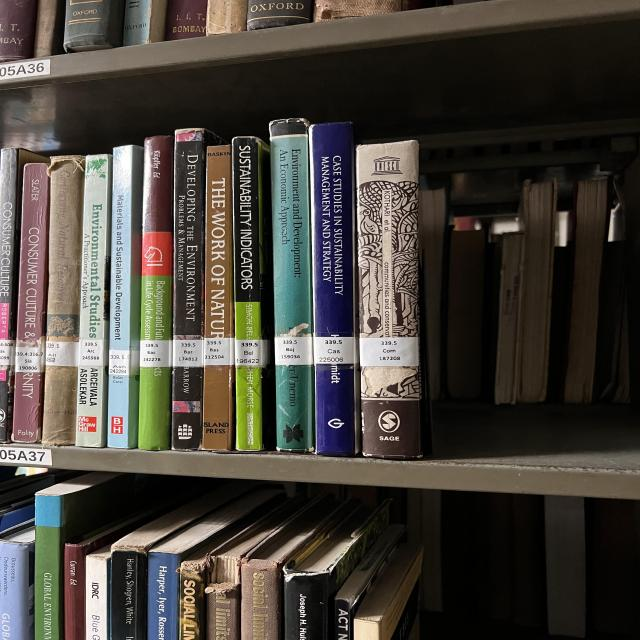Book: (357, 140, 422, 459), (308, 122, 358, 456), (172, 129, 223, 450), (270, 119, 315, 452), (42, 155, 85, 446), (232, 138, 268, 450), (138, 136, 173, 450), (75, 154, 112, 448), (108, 145, 143, 449), (13, 164, 50, 442), (202, 145, 235, 451)
Label: (360, 338, 418, 366), (313, 336, 355, 364), (275, 336, 313, 365), (203, 338, 235, 366), (140, 340, 172, 368), (45, 341, 78, 366), (235, 339, 265, 366), (173, 339, 203, 366), (108, 350, 140, 375), (78, 339, 107, 366), (15, 348, 45, 372)
